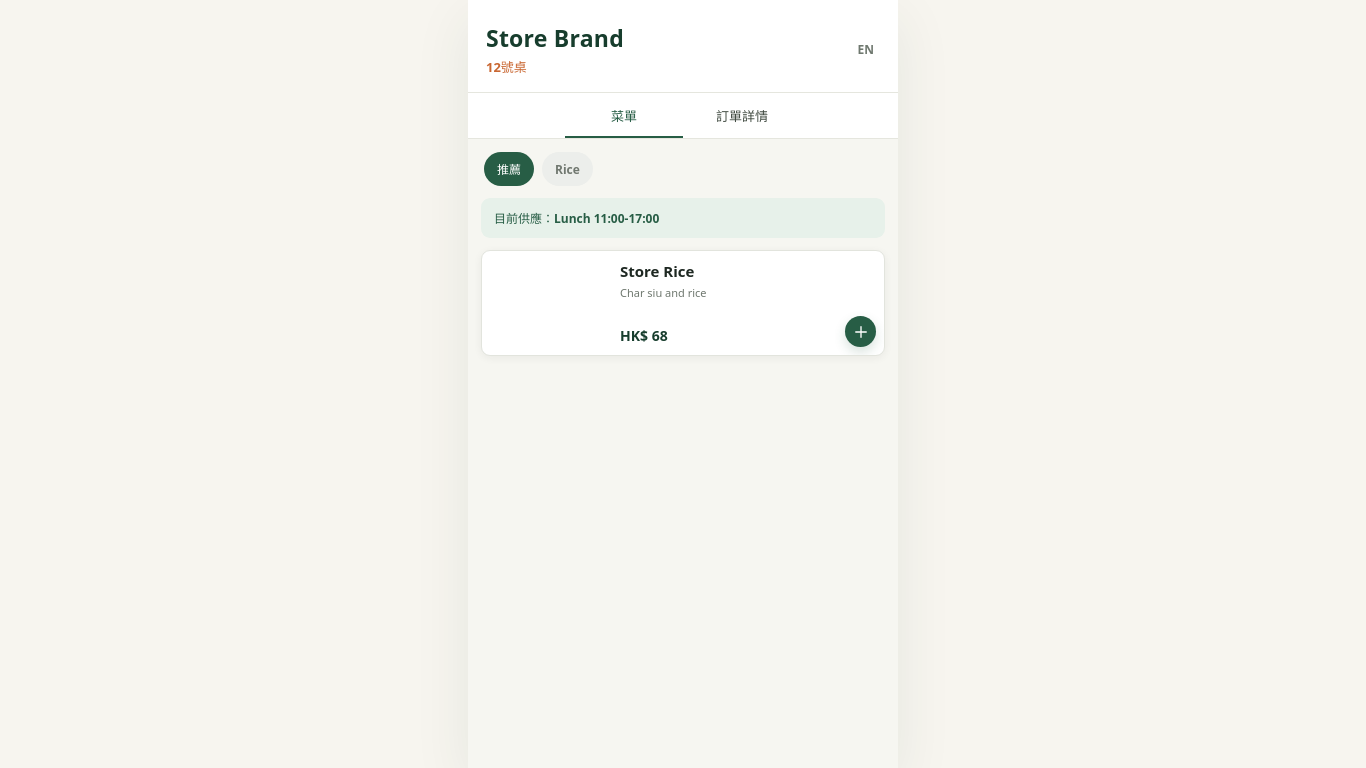
Test: GuestApp store integration › disables the cart submit button while an order is being placed
Step 1. Click the button named "加入Store Rice" → click(860, 332), box [845,316,876,347]
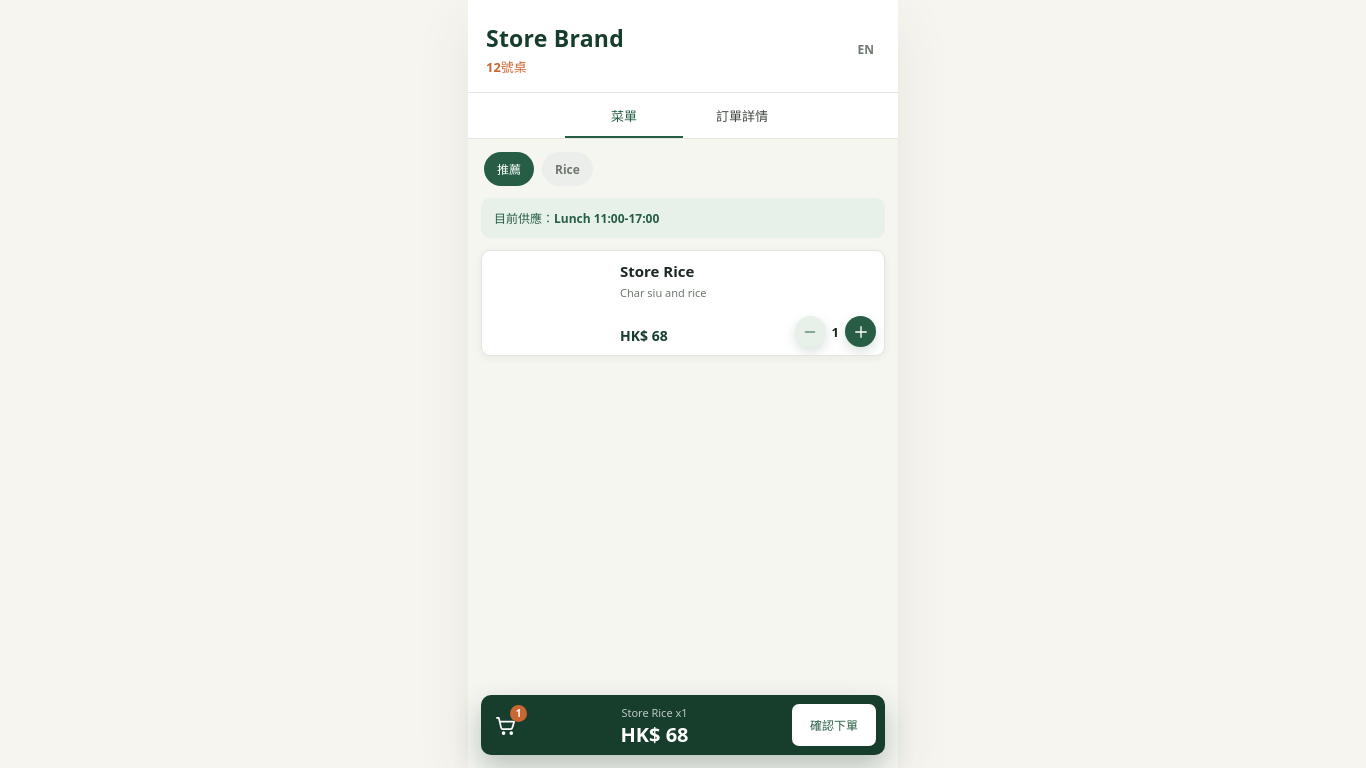
Step 2. Click the button "1 Store Rice x1 HK$ 68 確認下單" → click(683, 725), box [481,695,885,755]
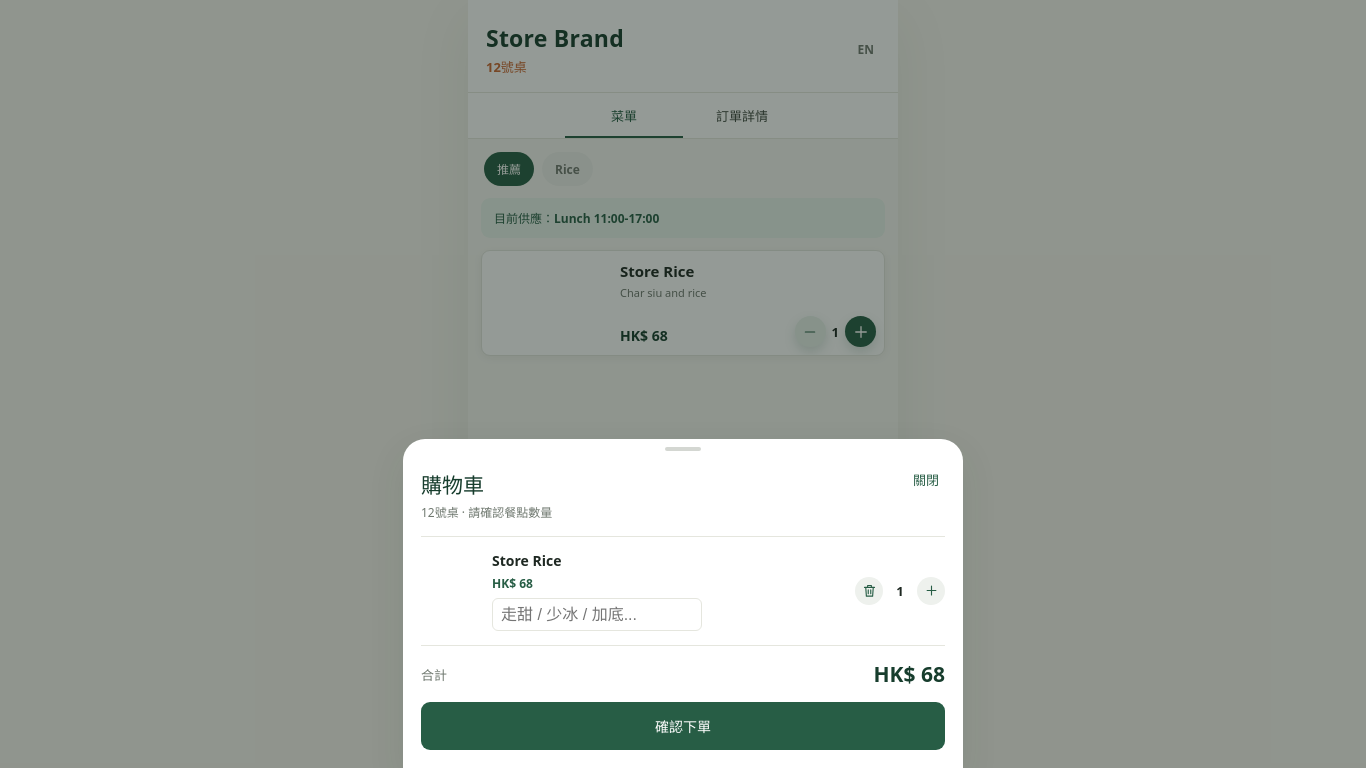
Step 3. Click the button "確認下單" → click(683, 726), box [421,702,945,750]
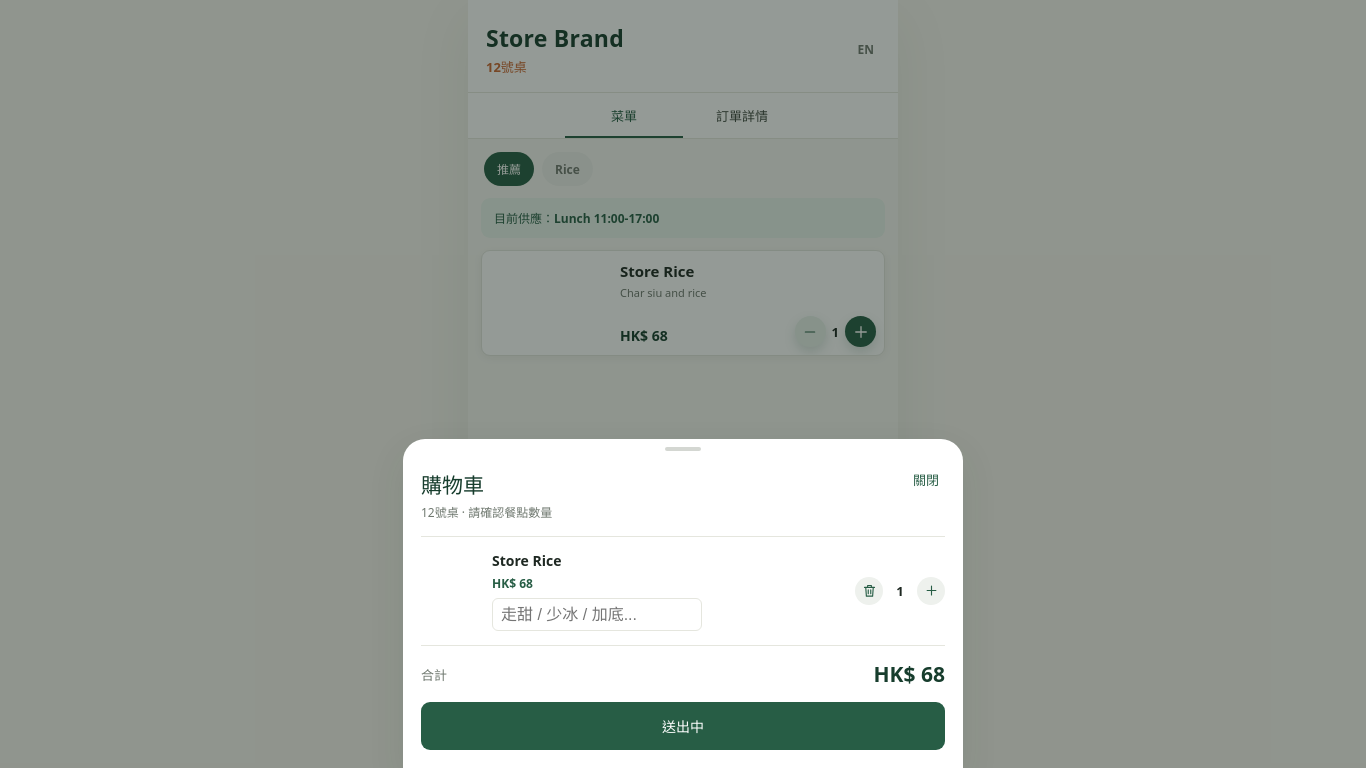
Check: the button "送出中" is disabled, box [421,702,945,750]
